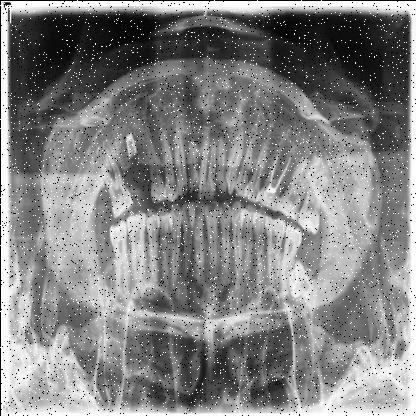Bicon: (122, 127, 140, 159)
